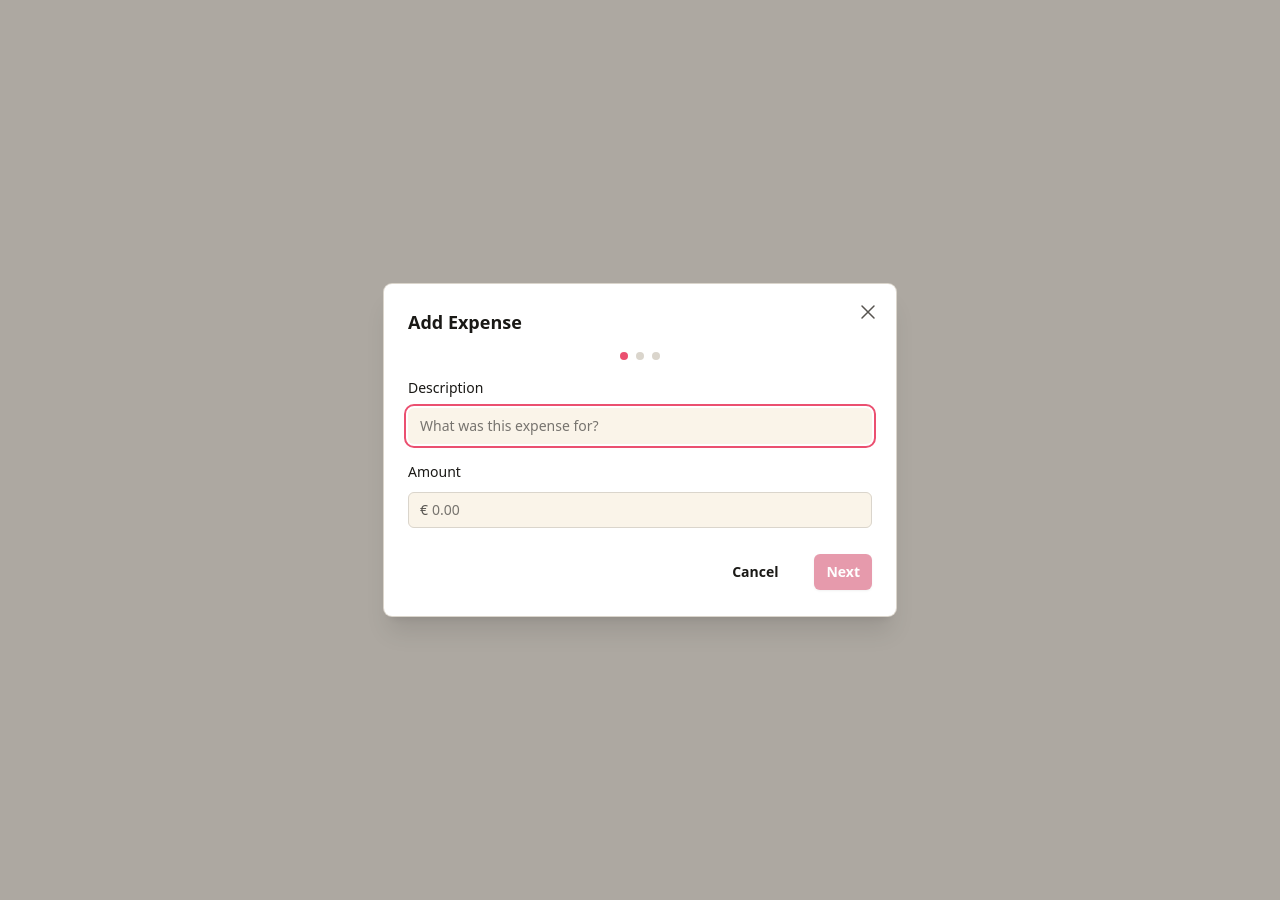
AddExpenseModal wizard › preserves form state when navigating back
The width and height of the screenshot is (1280, 900).
Type "Dinner" into the field with test id "expense-description-input".
click(640, 426); type("Dinner")  # box [408, 408, 872, 444]
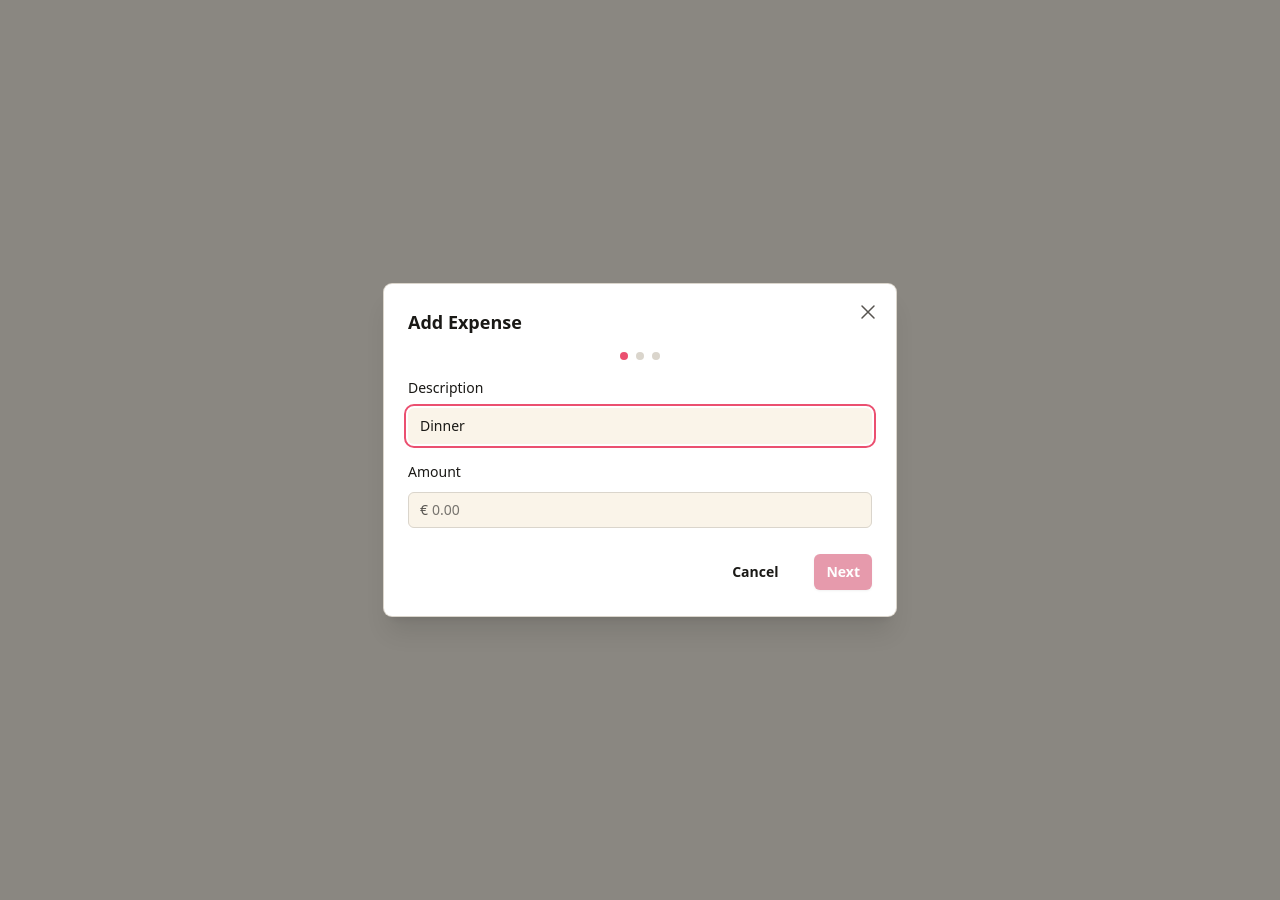
Type "99" into the field with test id "expense-amount-input".
click(650, 510); type("99")  # box [428, 492, 872, 528]
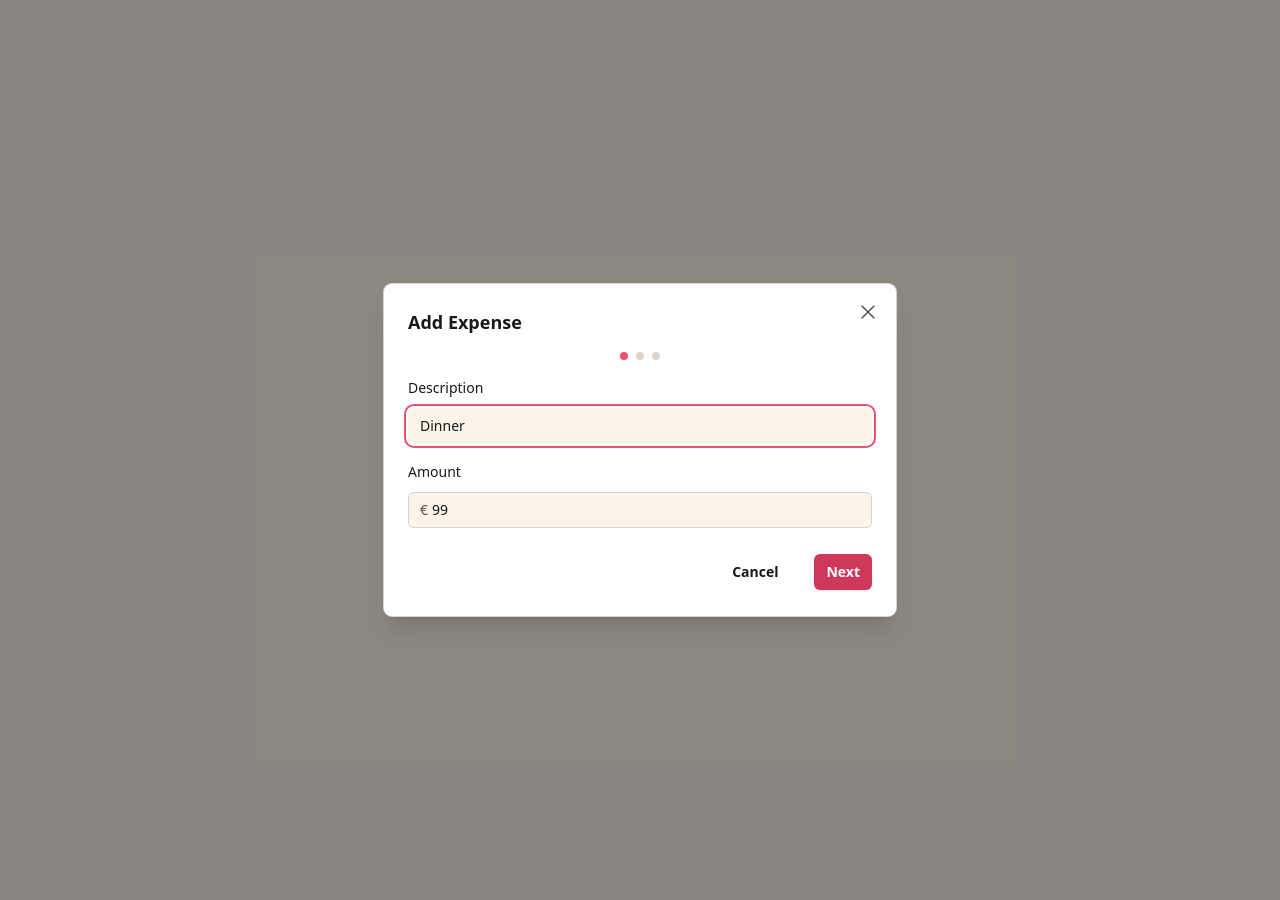
Submit the form, box [408, 352, 872, 592]
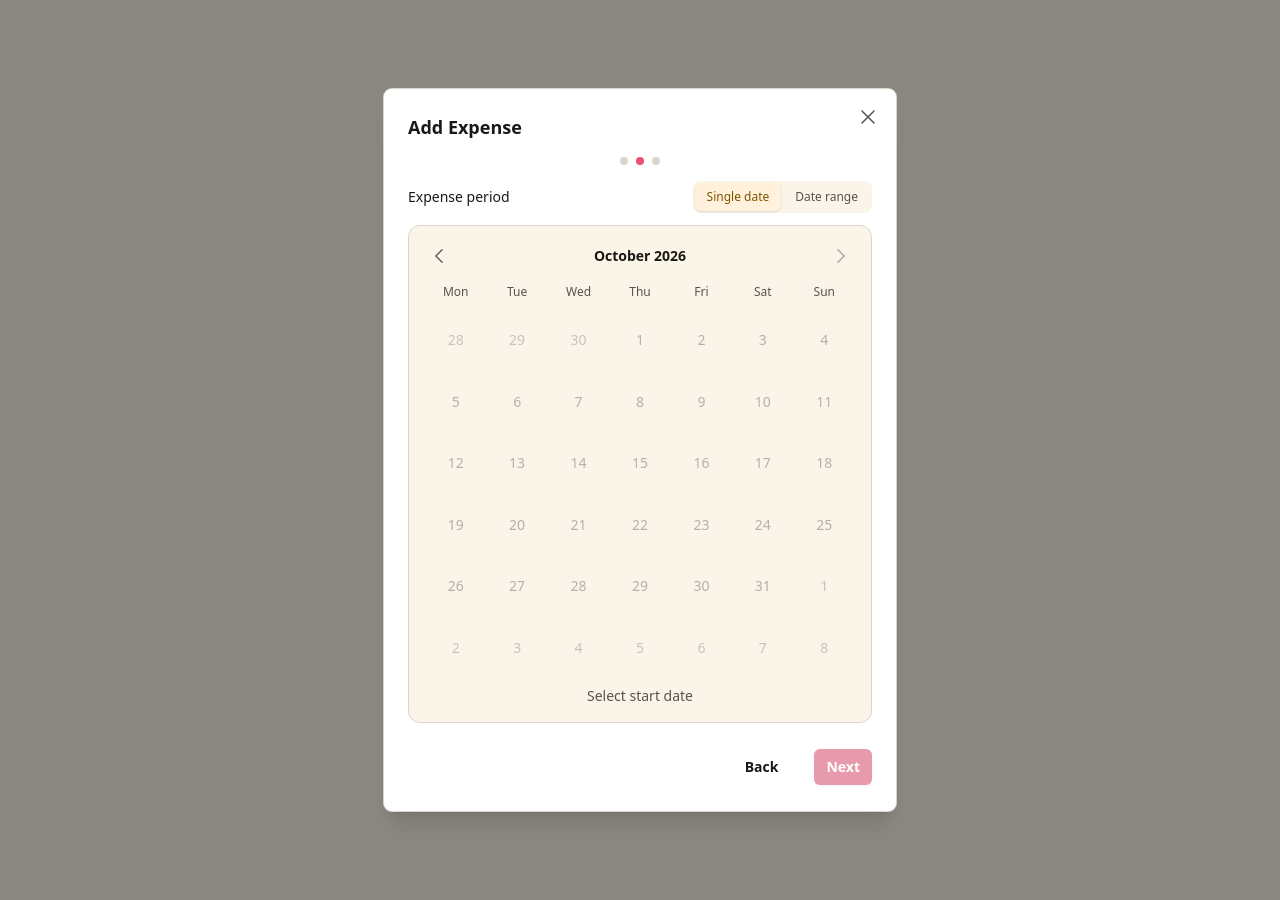
Note:  Go back
Click the button "Back".
click(762, 767)  # box [733, 747, 790, 787]
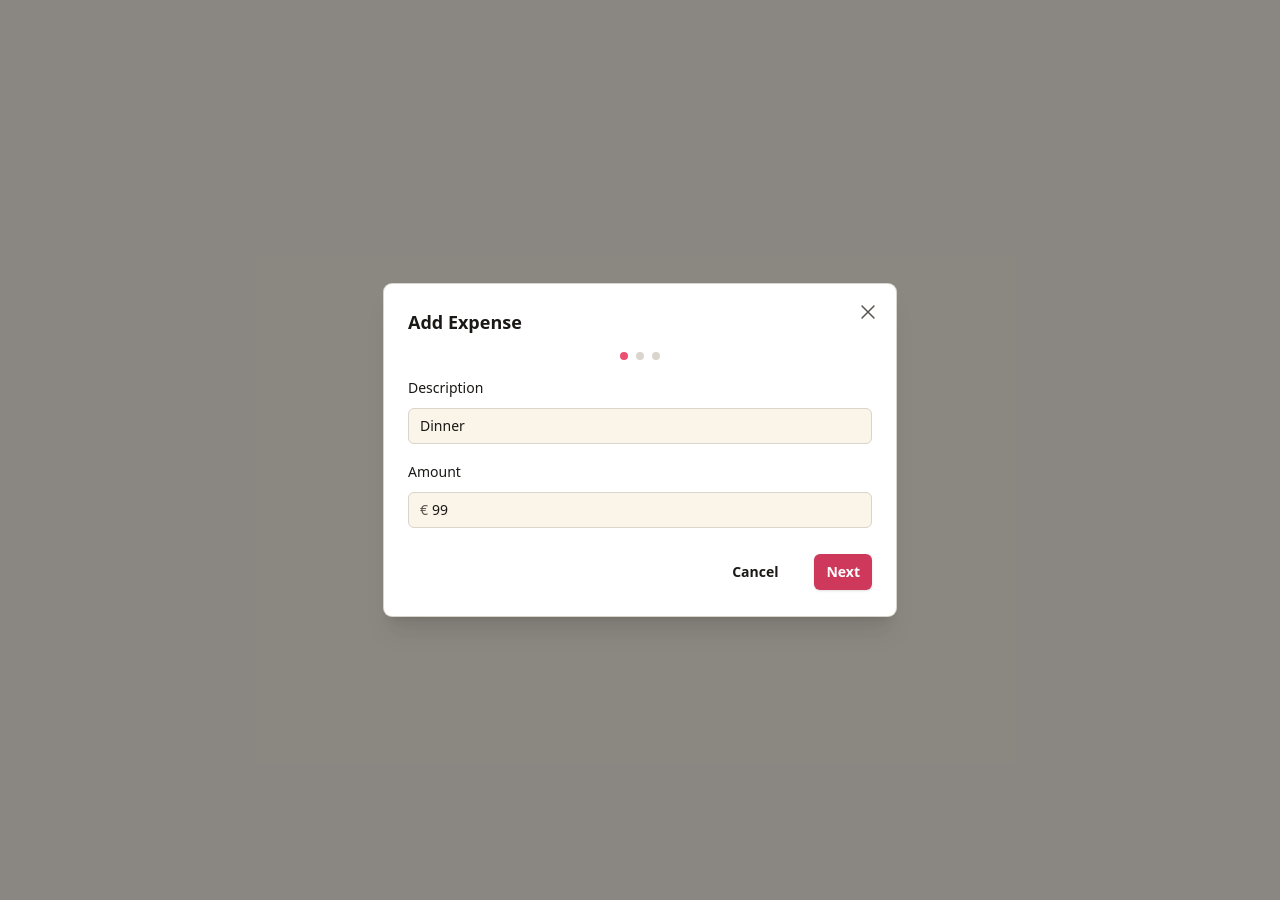
Check: the field with test id "expense-description-input" holds "Dinner", box [408, 408, 872, 444]
